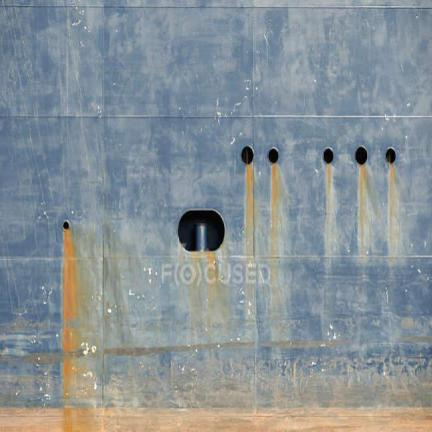karat: (62, 229, 97, 431), (246, 167, 252, 256), (327, 165, 333, 231)
